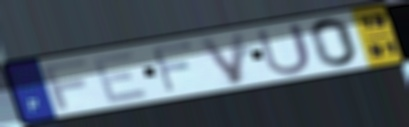0: (307, 17, 362, 70)
E: (89, 49, 151, 105)
F: (39, 57, 90, 112), (149, 39, 197, 95)
U: (253, 20, 314, 77)
V: (195, 29, 247, 87)
